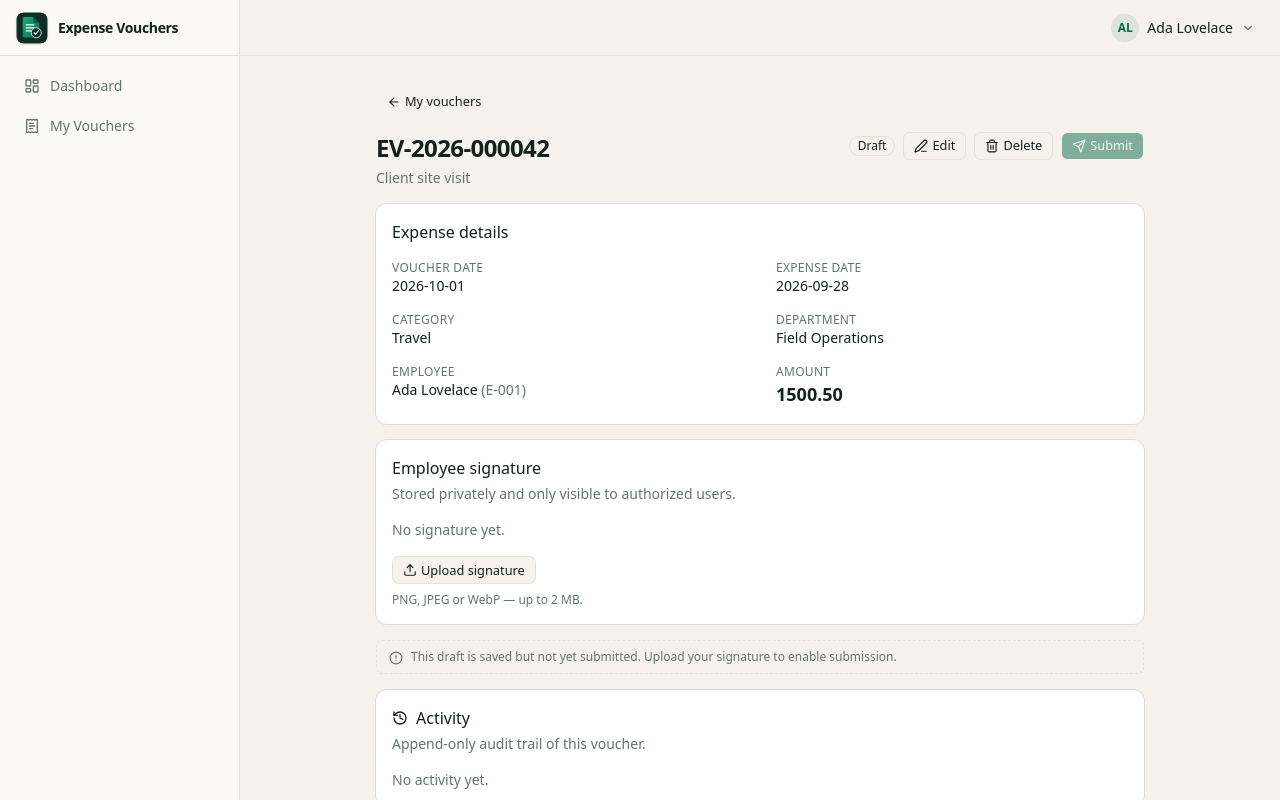
Test: voucher pages › lets the owner delete a draft after confirmation
Expected: the heading "EV-2026-000042" is shown, [376,132,549,164]
Click the button "Delete".
click(1014, 146)  # box [974,132,1053,160]
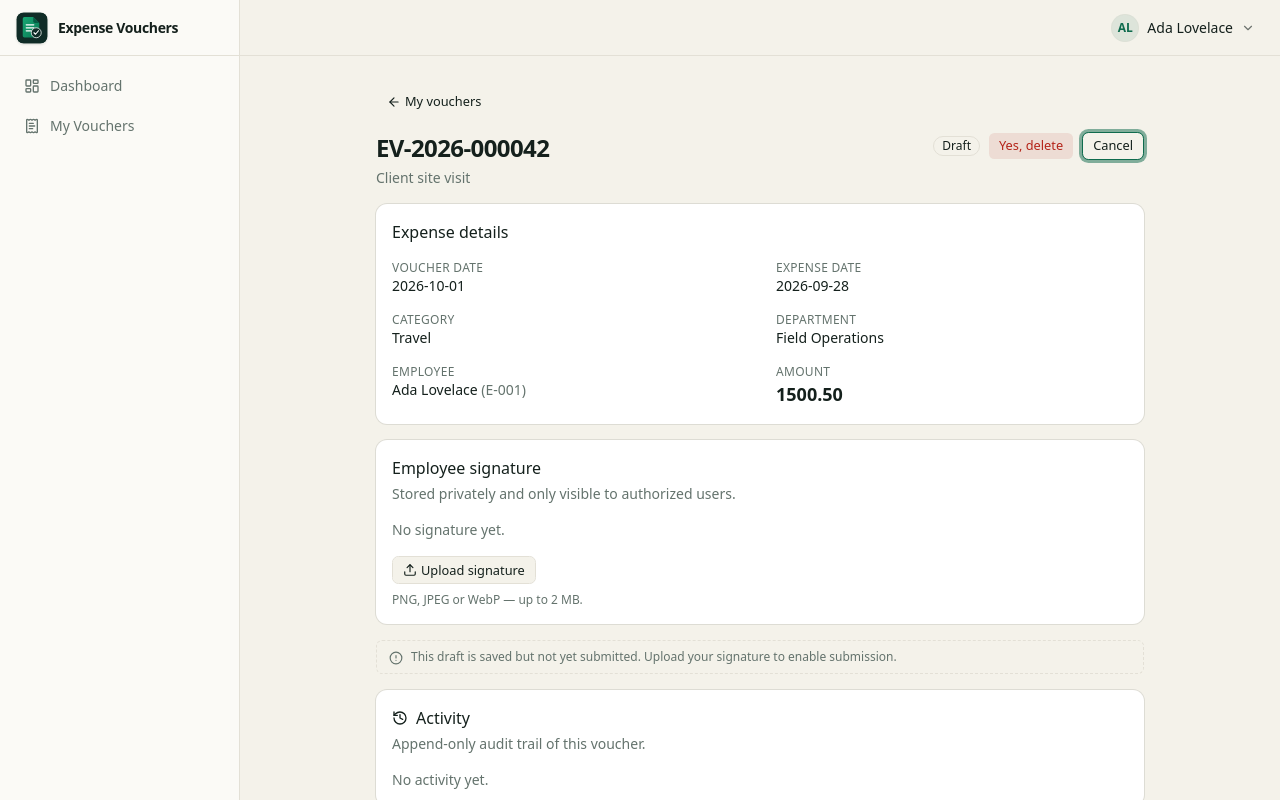
Click the button "Yes, delete".
click(1031, 146)  # box [988,132,1074,160]
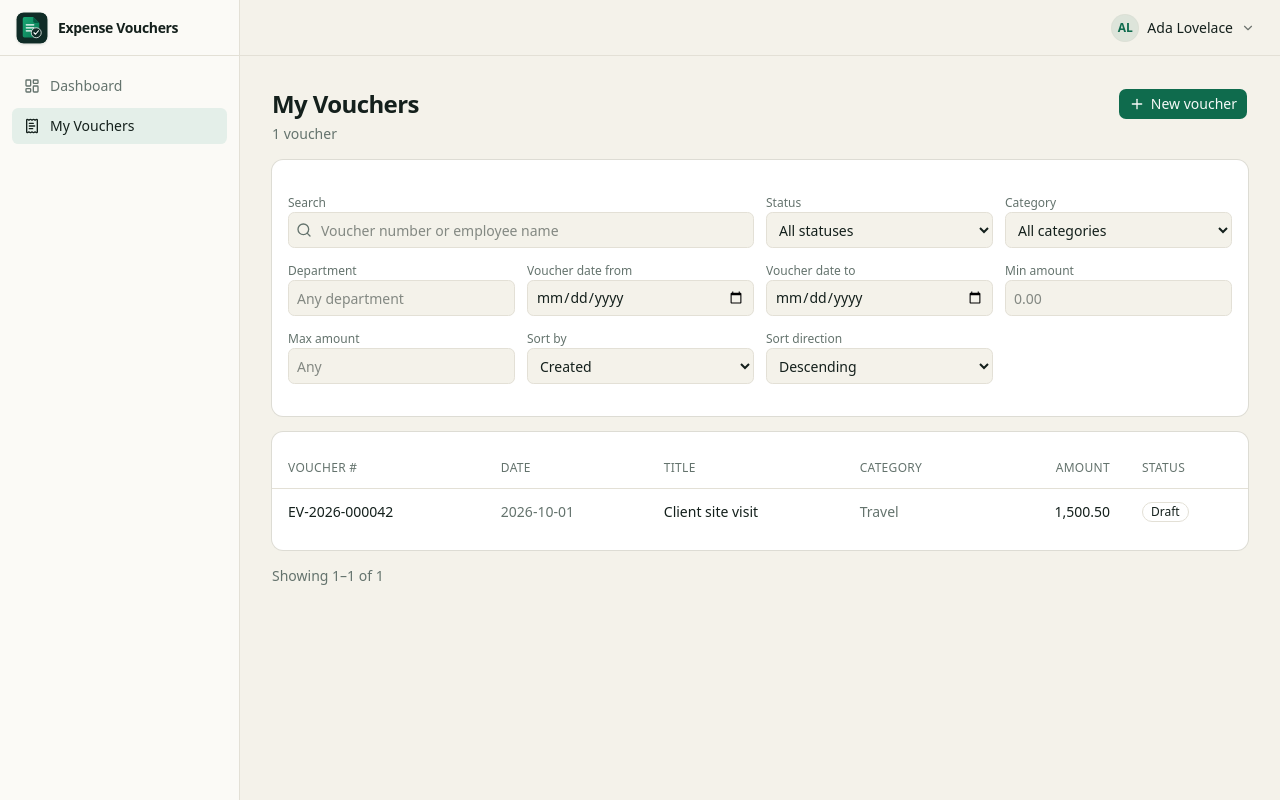
Now the heading "My Vouchers" is shown, box [272,88,419,120]
